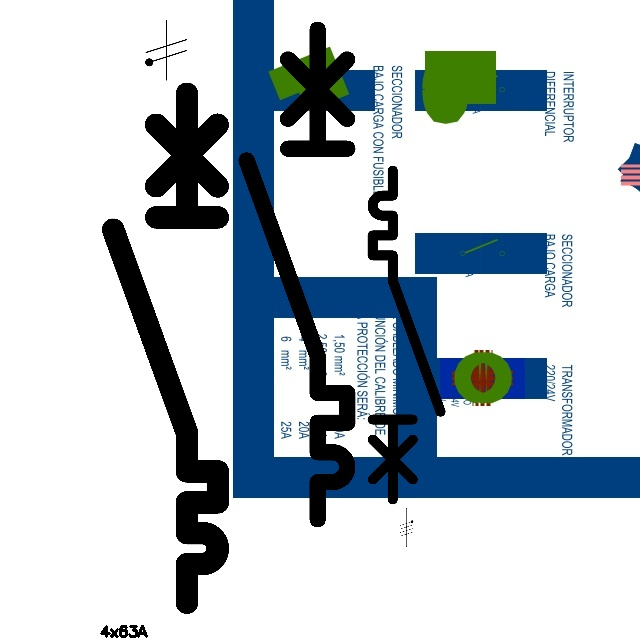interruptor_termomagnetico: (100, 80, 231, 616), (234, 17, 360, 532), (364, 162, 448, 508)
